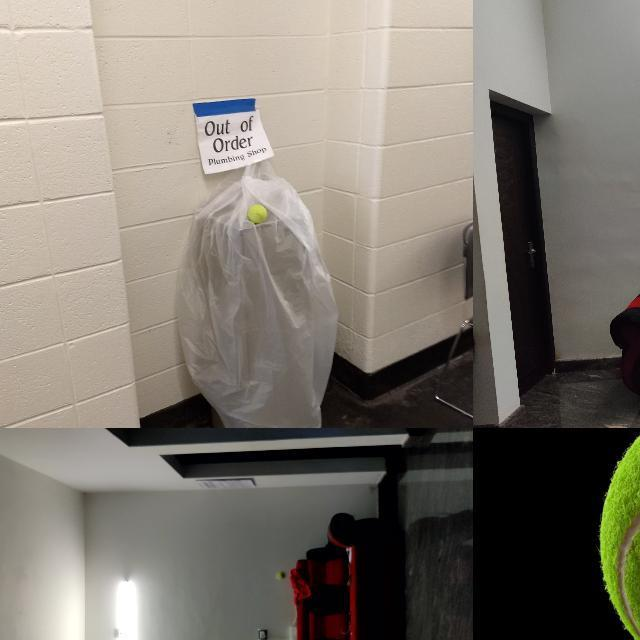tennis-ball: (597, 428, 639, 639), (248, 204, 266, 224), (275, 572, 285, 580)
